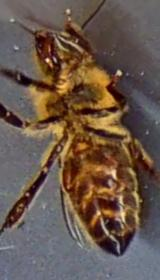varroa_mite: (56, 157, 80, 194)
